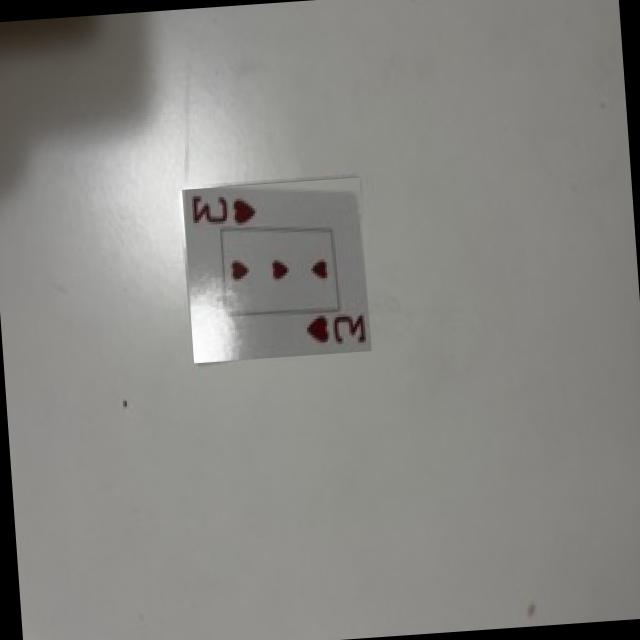3 of hearts: (184, 189, 369, 361)
